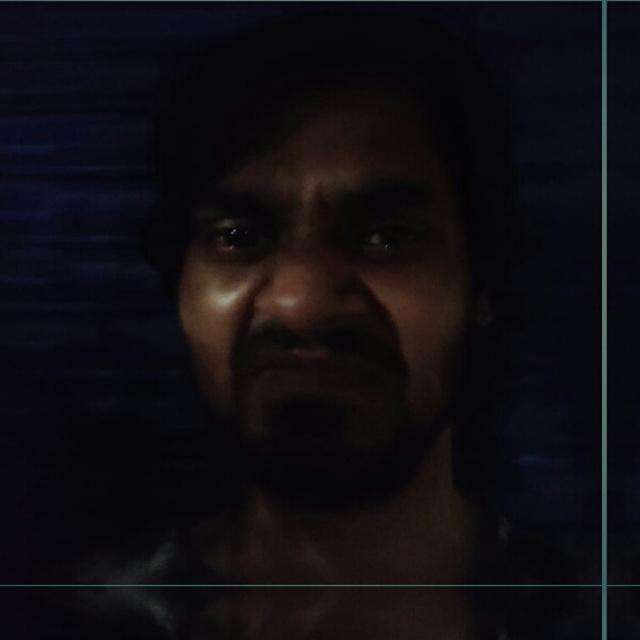Disgust: (146, 87, 514, 488)
